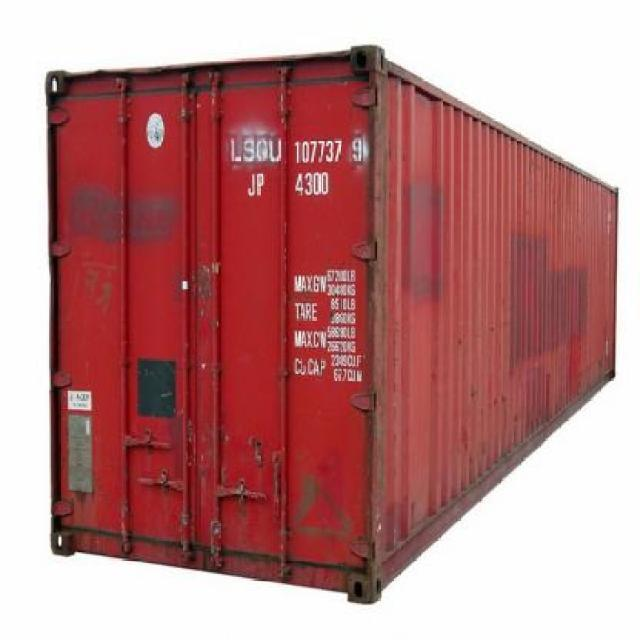ISO: (296, 172, 332, 195)
container_number: (228, 138, 364, 164)
